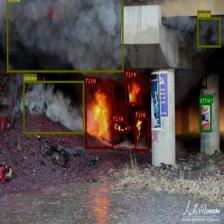fire: (85, 84, 113, 148), (135, 118, 149, 150), (125, 77, 141, 104), (112, 121, 129, 132)
smoke: (7, 0, 123, 72), (23, 80, 84, 134), (197, 17, 221, 47)
